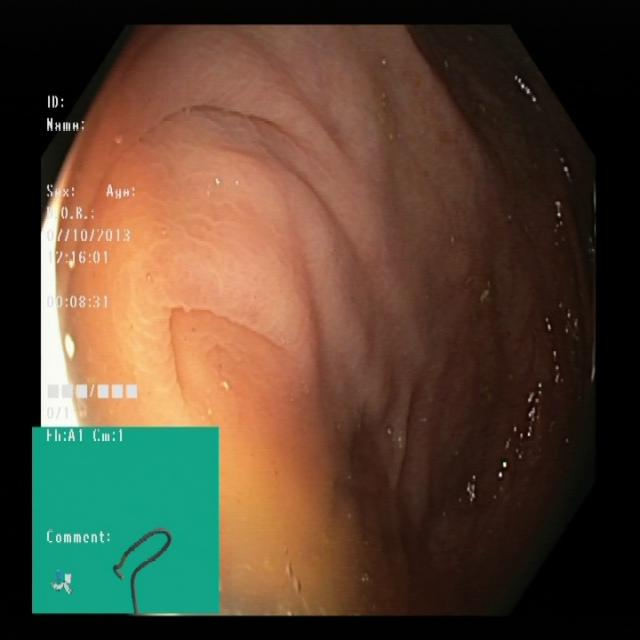normal-cecum: (54, 88, 440, 620)
